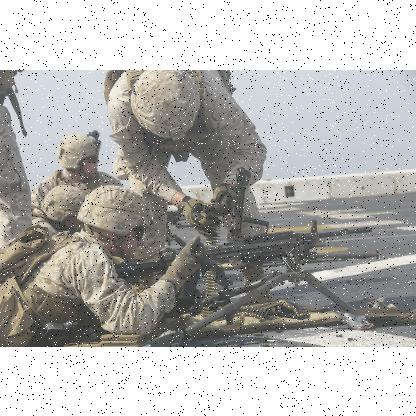gun: (115, 167, 380, 345)
